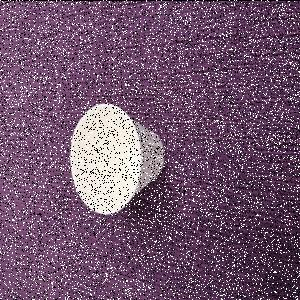Cup: (71, 103, 167, 216)
